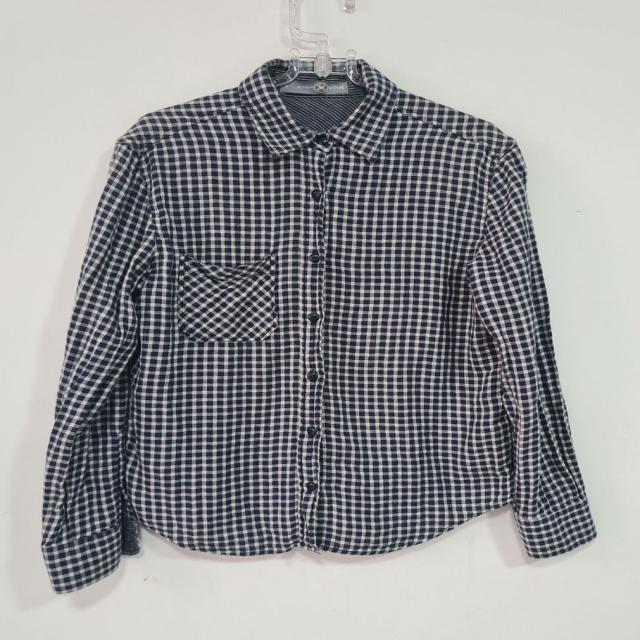long sleeve shirt: (38, 52, 601, 600)
